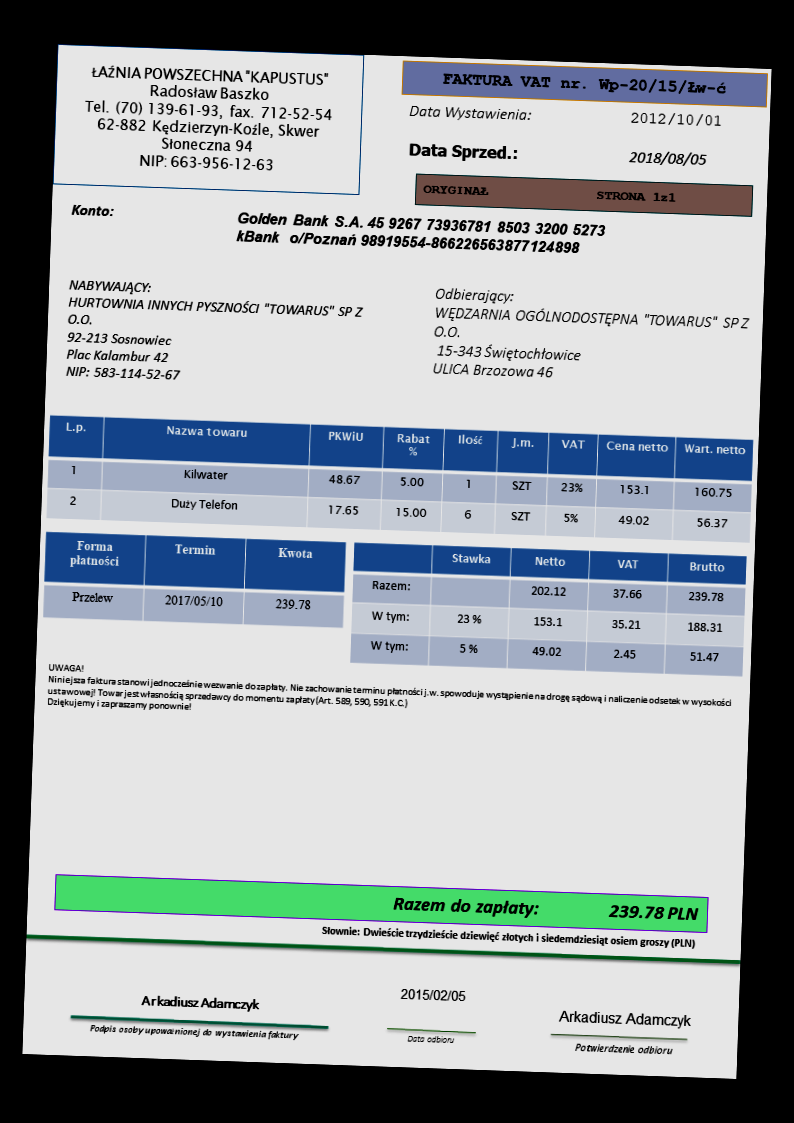Table: (45, 414, 754, 545), (348, 541, 748, 677), (40, 530, 347, 629)
TextBox: (44, 660, 733, 732), (63, 276, 367, 389), (430, 285, 751, 388), (80, 61, 336, 175), (233, 210, 608, 258), (319, 922, 696, 951), (390, 893, 701, 925), (441, 68, 730, 98), (420, 179, 678, 206), (87, 1020, 301, 1043), (556, 1008, 694, 1032), (406, 139, 520, 165), (407, 102, 534, 125), (139, 992, 262, 1014), (628, 110, 725, 131), (572, 1040, 674, 1057), (627, 149, 709, 168), (398, 985, 467, 1004), (69, 201, 114, 220), (404, 1032, 454, 1045)
